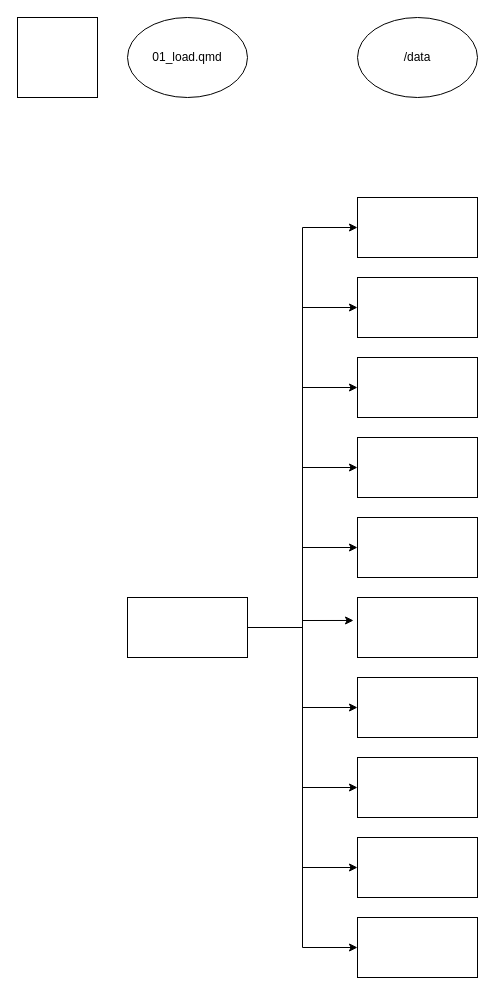
The diagram is 495 pixels wide and 995 high, and some of its shapes have lost their labels. Here are the shapes that lost their labels. From the top down, the centre of each, then its label:
[57,57]: Process overveiw
[187,627]: NCBI GEO MBC raw datafiles import
